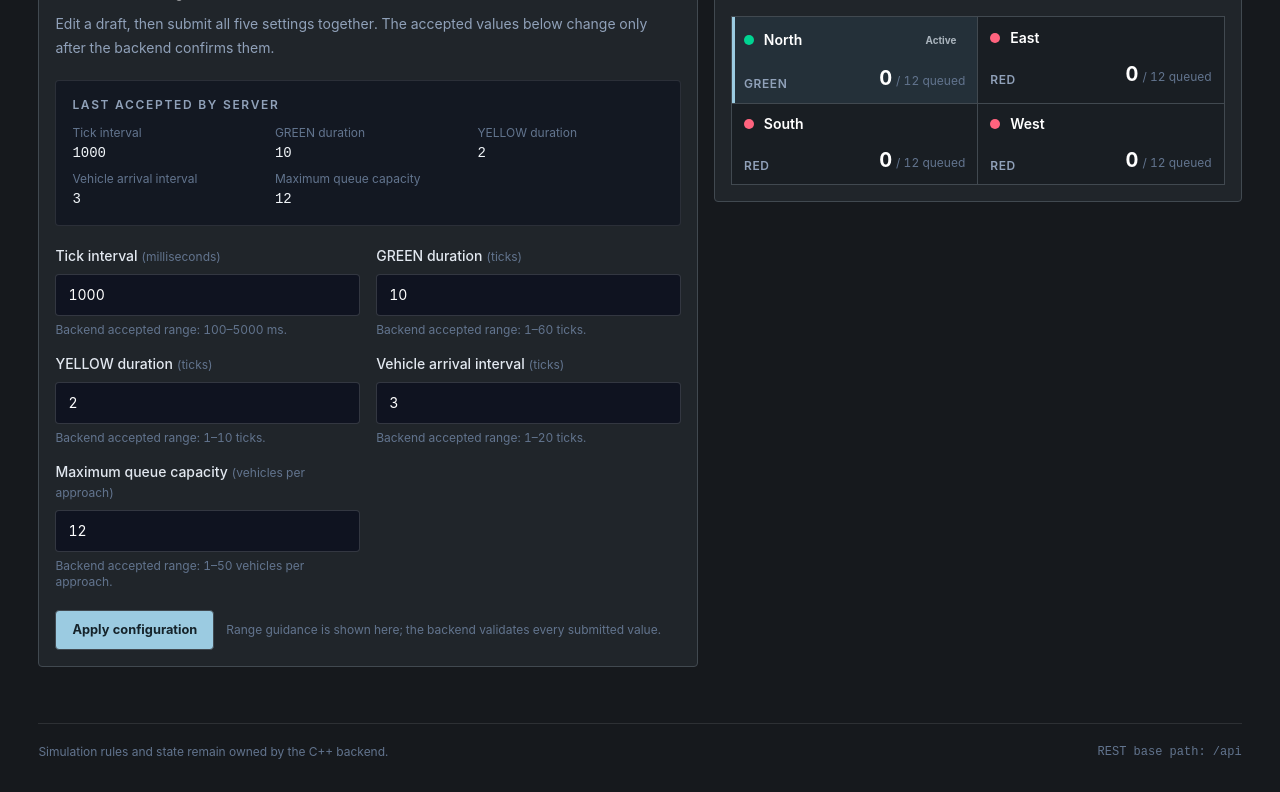
Scenario: simulation controls and configuration › shows a general backend error when details are absent
(page scrolled)
Step 1. Click the button "Apply configuration" → (135, 630), box [55,610,214,650]
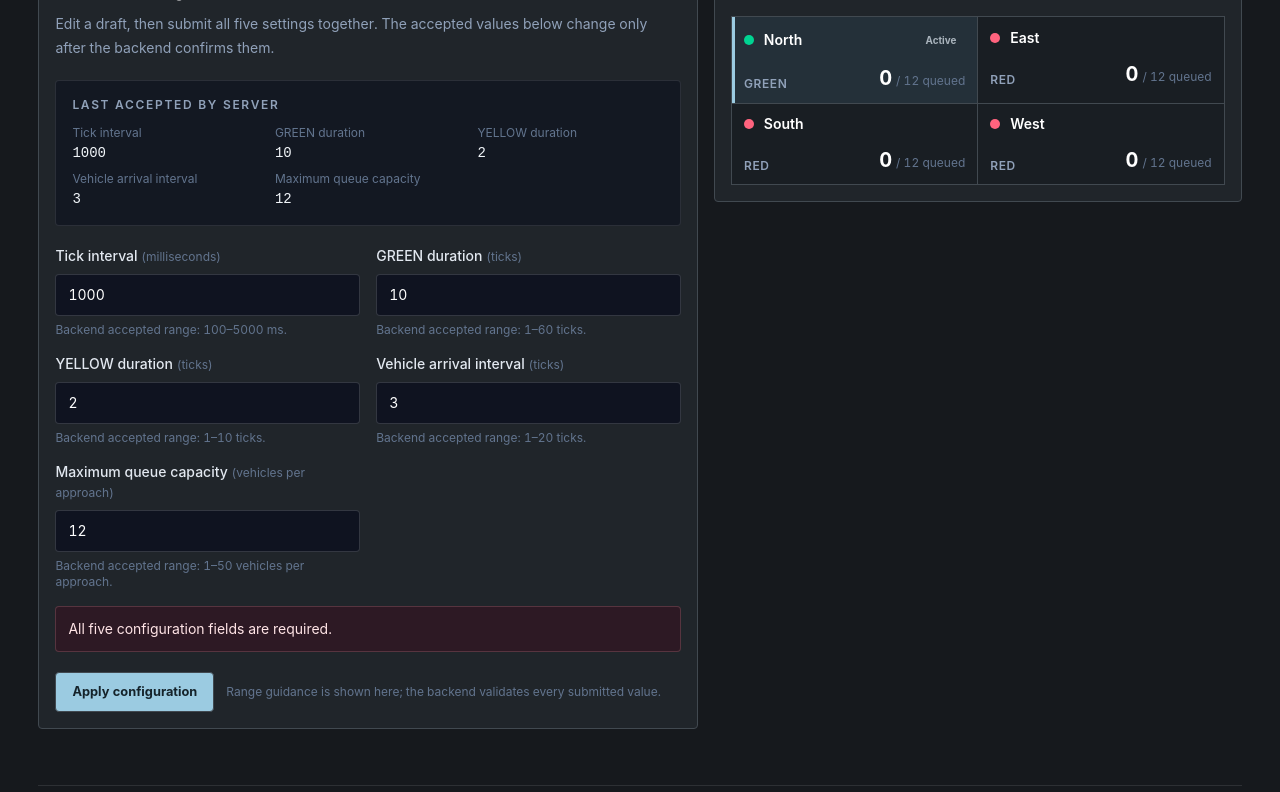
Expected: the text with test id "accepted-tickMs" reads "1000", [72,145,106,161]
Result: the message reads "All five configuration fields are required." at [68,620,332,637]
